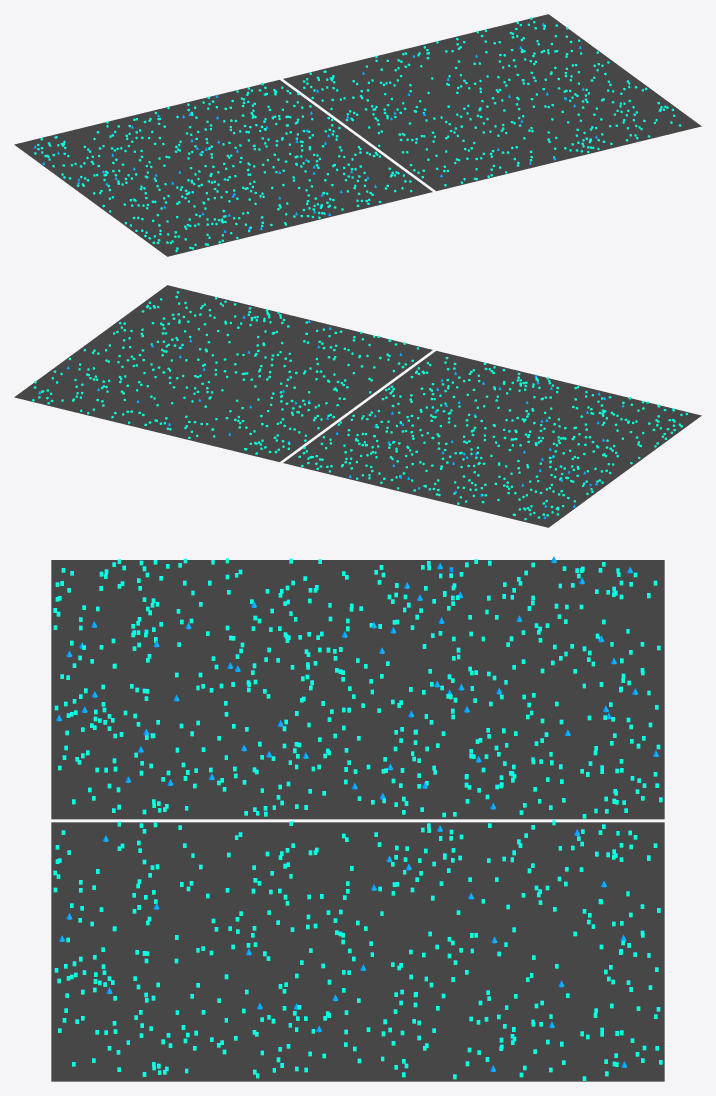
File: all_worlds.glb
The picture shows the model from 3 angles, top to bottom: view 1: azimuth 30°, elevation 25°; view 2: azimuth 150°, elevation 25°; view 3: azimuth 270°, elevation 25°; orthographic projection. The views are drawn at different scales.
Visible parts, largest first — view 1: Plane.016, Plane.017; view 2: Plane.016, Plane.017; view 3: Plane.016, Plane.017.
Boxes of the visible parts, <box> form: Plane.016: <box>283,14,701,190</box>; Plane.017: <box>14,80,432,256</box>; Plane.016: <box>14,285,432,461</box>; Plane.017: <box>283,351,701,527</box>; Plane.016: <box>51,822,664,1081</box>; Plane.017: <box>51,560,664,819</box>.
Bounding box in the file's own units: 89.45 × 0.4676 × 44.45.
